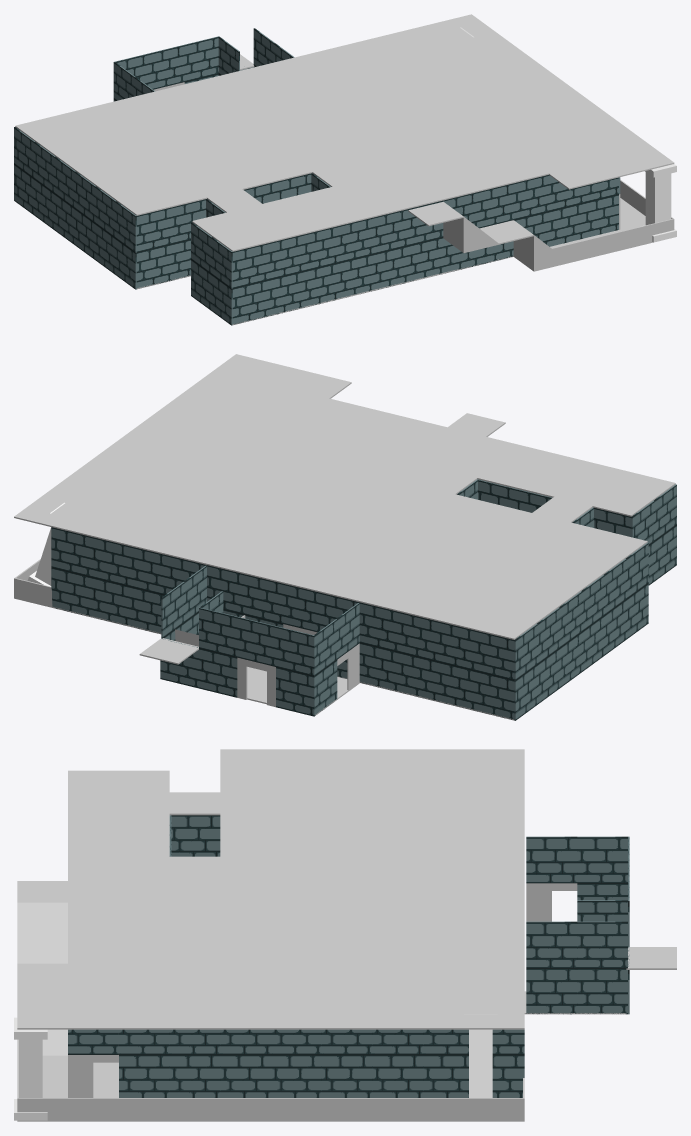
The model's file is fase.glb.
3 renders of one model, top to bottom at view 1: azimuth 30°, elevation 25°; view 2: azimuth 150°, elevation 25°; view 3: azimuth 270°, elevation 25°, orthographic. The views are drawn at different scales.
Parts seen in each view (by area): view 1: chao (×113), parede (×49), cercadinho (×4), next_level, escada (×2), pilastra_caida, cube; view 2: chao (×112), parede (×48), next_level, parede_abertura_porta_meio, cercadinho, pilastra_caida, parede_abertura_porta_lateral; view 3: chao (×117), parede (×25), carcadinho (×10), pilastra_caida (×2), escada (×2), parede_abertura_porta_lateral (×2), cube.
Boxes of the visible parts, box(x1,y1,x2,y2) form: chao (×113): box(15, 14, 674, 251); parede (×49): box(14, 28, 618, 325); cercadinho (×4): box(533, 218, 674, 271); next_level: box(231, 96, 340, 141); escada (×2): box(443, 217, 568, 269); pilastra_caida: box(642, 164, 676, 242); cube: box(218, 36, 239, 75); chao (×112): box(14, 354, 675, 664); parede (×48): box(52, 479, 676, 720); next_level: box(290, 508, 408, 558); parede_abertura_porta_meio: box(237, 657, 275, 707); cercadinho: box(14, 578, 52, 606); pilastra_caida: box(27, 502, 64, 586); parede_abertura_porta_lateral: box(337, 643, 359, 691); chao (×117): box(17, 749, 676, 1077); parede (×25): box(68, 815, 627, 1097); carcadinho (×10): box(17, 1098, 524, 1121); pilastra_caida (×2): box(14, 1014, 497, 1120); escada (×2): box(17, 902, 67, 1055); parede_abertura_porta_lateral (×2): box(68, 883, 577, 1097); cube: box(577, 900, 627, 921).
Bounding box in the file's own units: 24.5 × 3.84 × 24.5.
3 materials, 1 textured.
